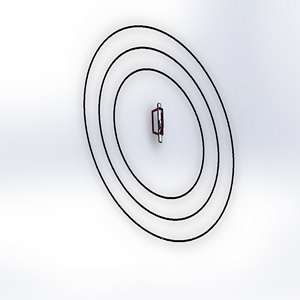circle: (75, 17, 239, 249)
submarine: (143, 96, 174, 149)
